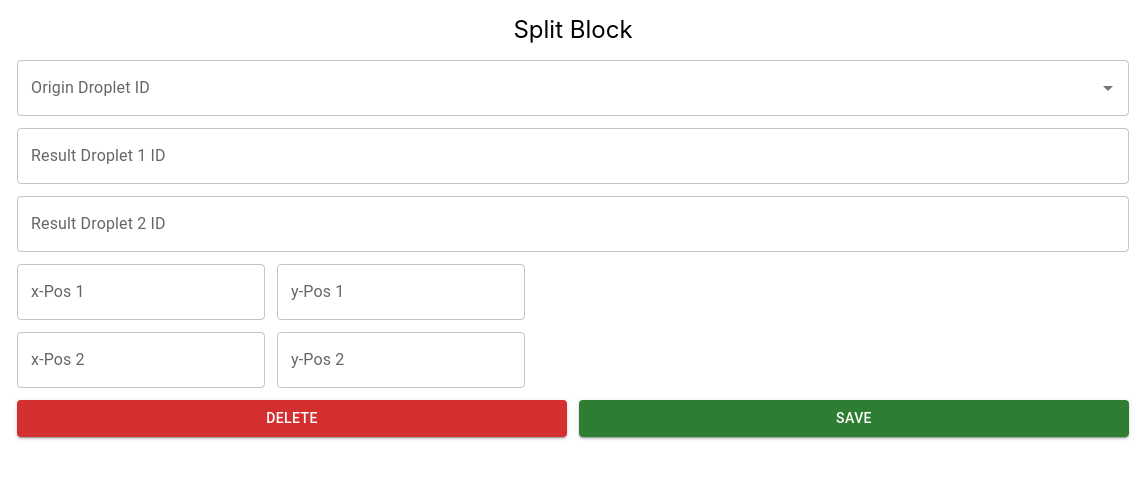
Scenario: SplitBlockEditor Component › Should show error message when result droplet IDs are the same
Type "testDrop1" into the field labelled "Result Droplet 1 ID". click: (573, 156)
box: top-left (17, 128), bottom-right (1129, 184)
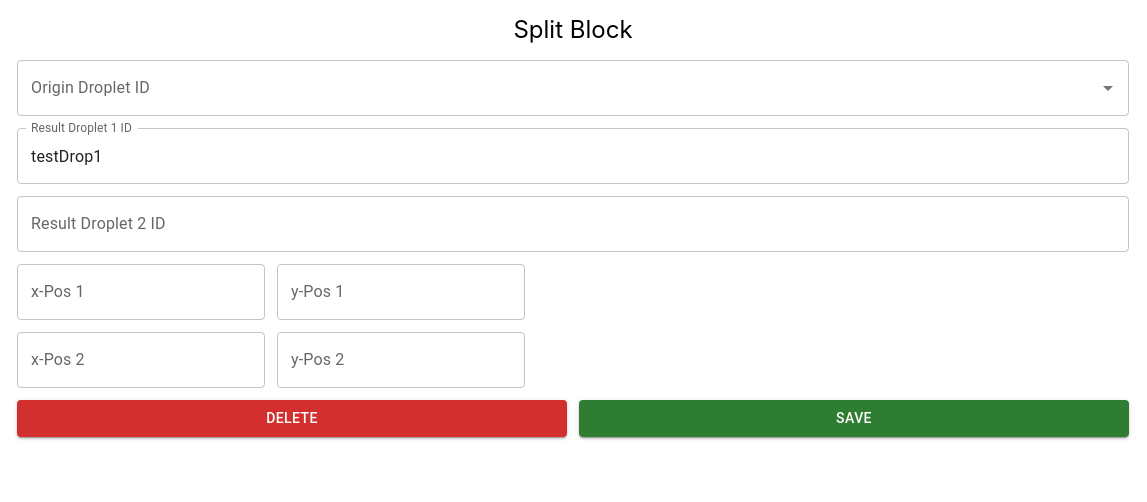
Type "testDrop1" into the field labelled "Result Droplet 2 ID". click: (573, 224)
box: top-left (17, 196), bottom-right (1129, 252)
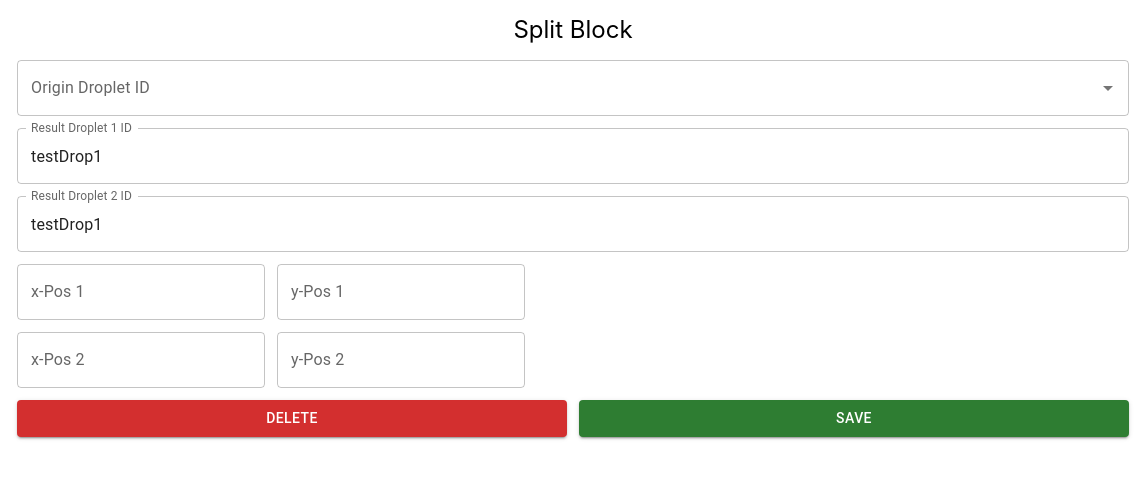
Click the button "Save". click: (854, 418)
box: top-left (579, 400), bottom-right (1129, 436)
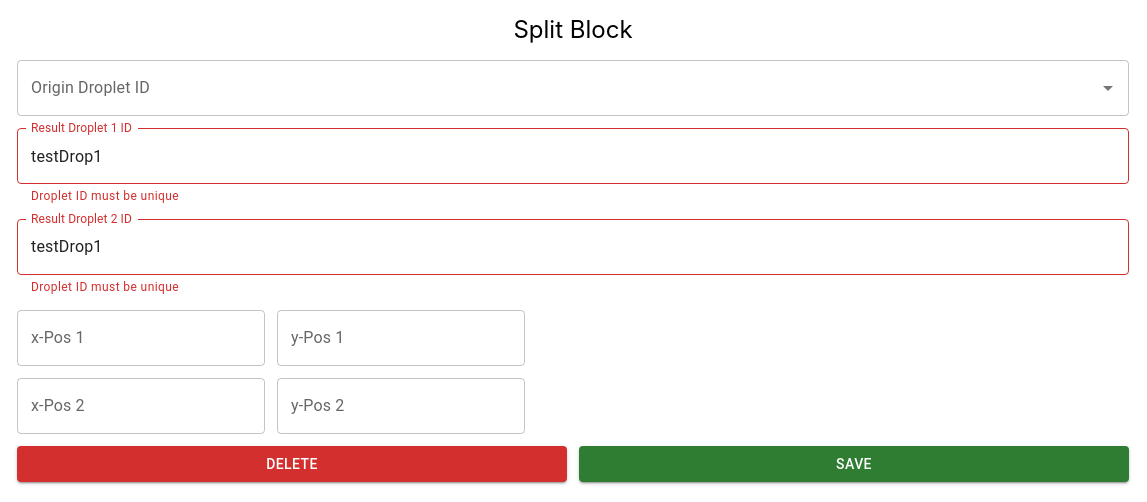
Check: the text "Droplet ID must be unique" is shown 2 times, box top-left (31, 189), bottom-right (179, 203); top-left (31, 280), bottom-right (179, 294)
